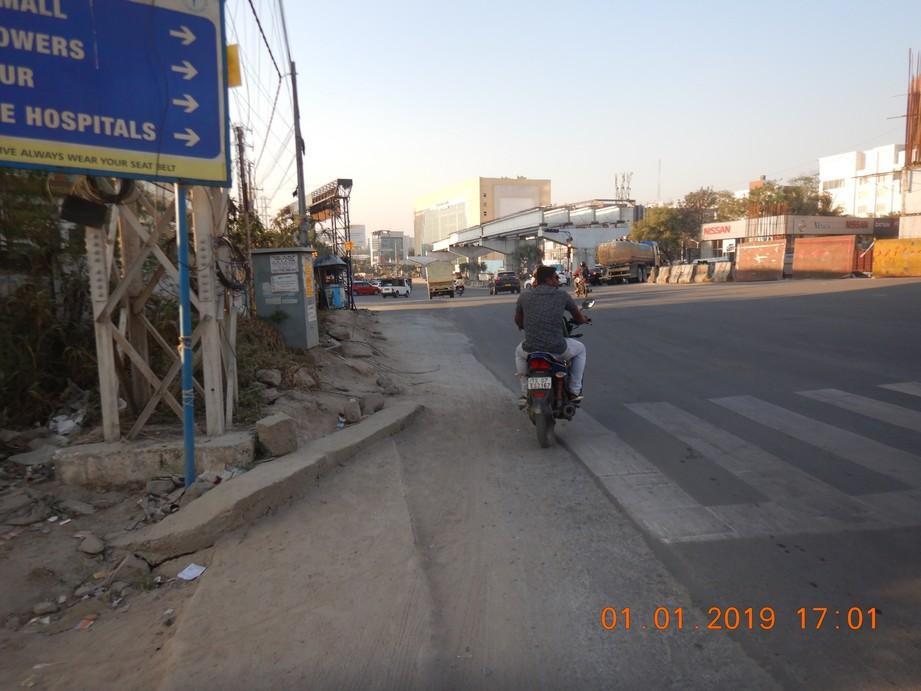plate: (526, 374, 554, 392)
